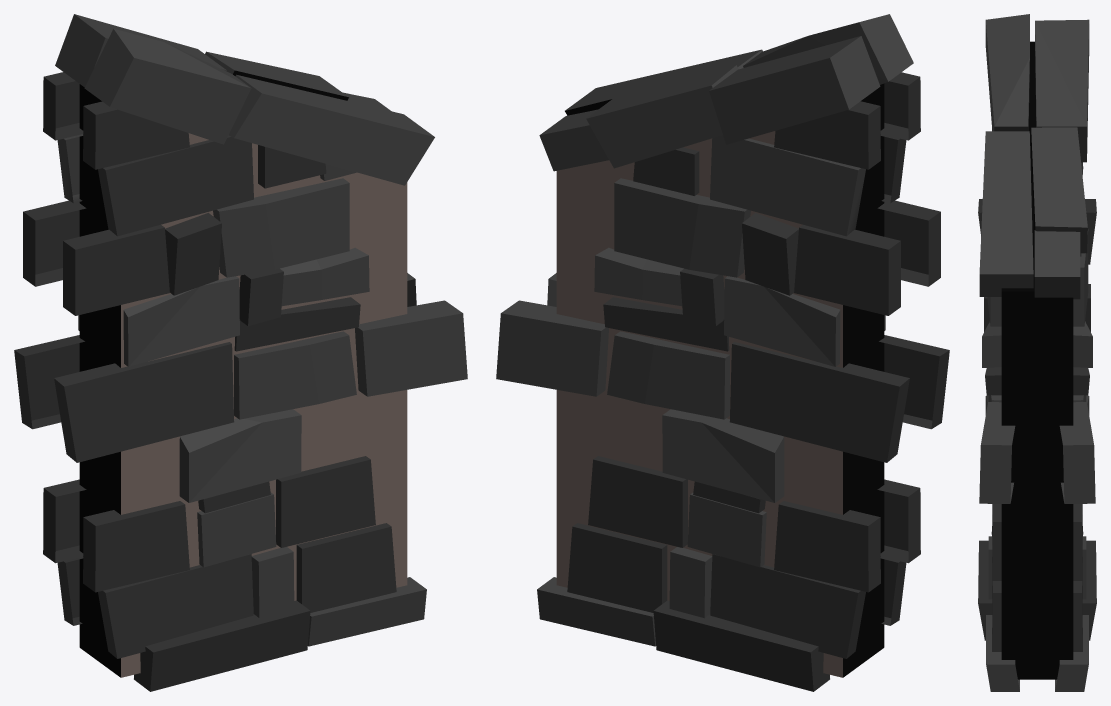
File: Wall_StairsDown.fbx
3 renders of one model, left to right at view 1: azimuth 30°, elevation 25°; view 2: azimuth 150°, elevation 25°; view 3: azimuth 270°, elevation 25°, orthographic. The views are drawn at different scales.
Parts seen in each view (by area): view 1: Wall_StairsDown; view 2: Wall_StairsDown; view 3: Wall_StairsDown.
Part boxes in pixels (bbox=[...]): Wall_StairsDown: bbox=[14, 14, 467, 691]; Wall_StairsDown: bbox=[496, 14, 949, 691]; Wall_StairsDown: bbox=[978, 14, 1096, 691].
Size of the model in its own units: 5.3 by 8.3 by 1.6.
